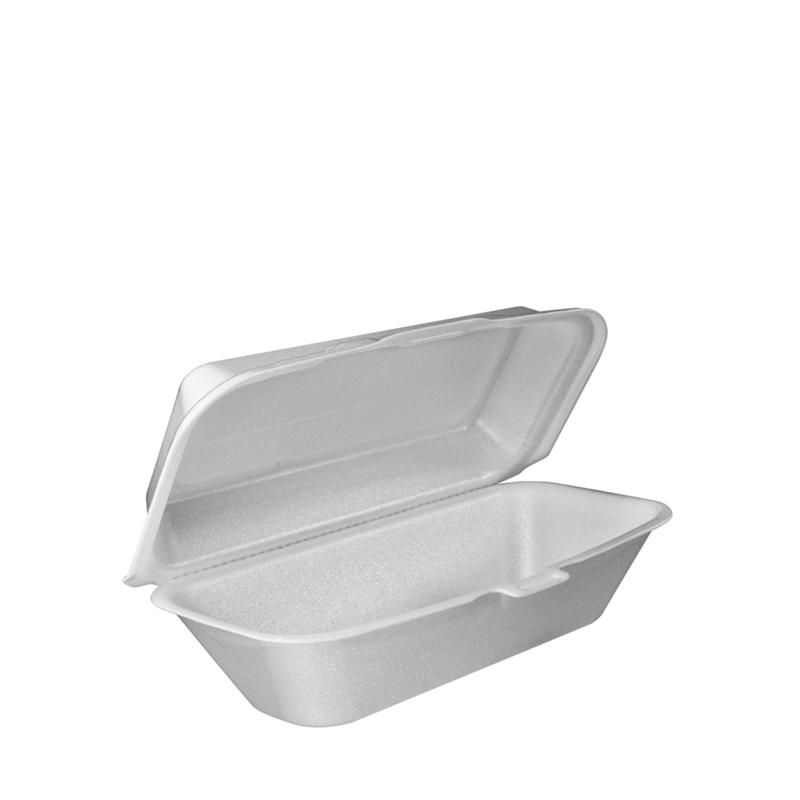styrofoam: (119, 303, 680, 735)
